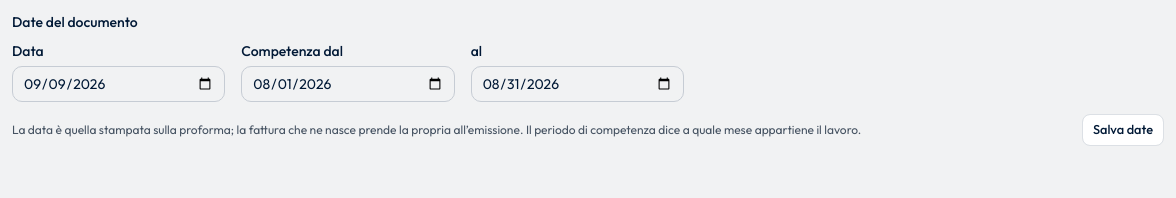
Test case: InvoiceHeaderEditor › refuses a proforma without a date
Clear the date field labelled "Data" at (119,84), box [12,66,225,102]
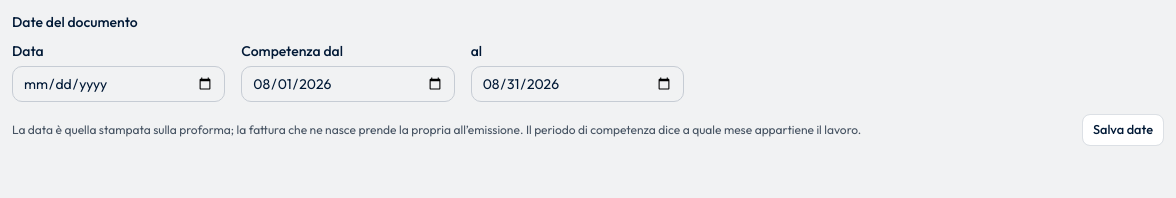
Click the button "Salva date" at (1123,130), box [1082,114,1164,146]
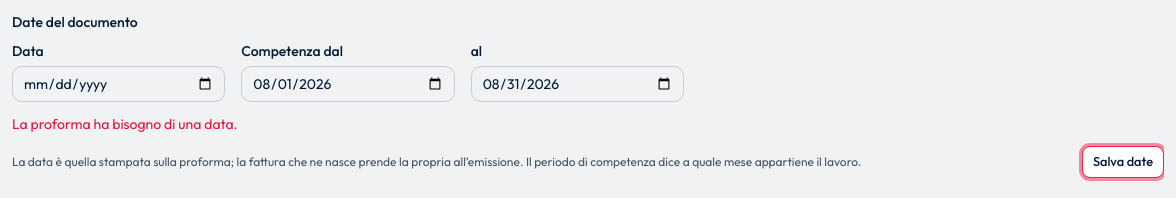
Expected: the text "La proforma ha bisogno di una data." is shown, [12,115,238,133]
